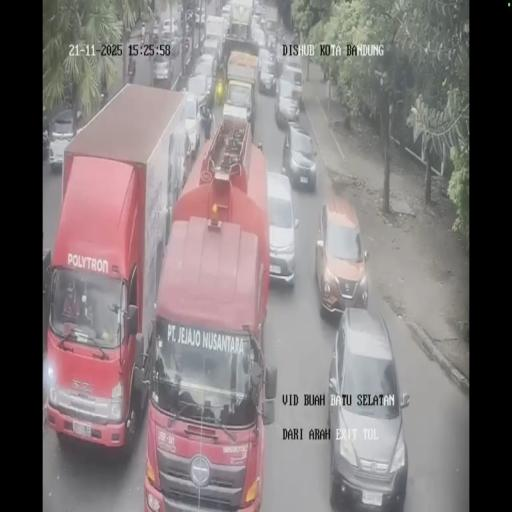3: (45, 82, 193, 456)
car: (282, 122, 318, 191), (186, 68, 214, 123), (281, 60, 302, 103), (200, 36, 222, 77), (257, 50, 277, 94), (262, 14, 278, 48), (160, 16, 179, 38), (273, 41, 284, 74), (168, 33, 180, 57), (193, 6, 206, 26), (221, 4, 231, 28), (252, 4, 263, 24)
truck: (99, 86, 108, 107)
